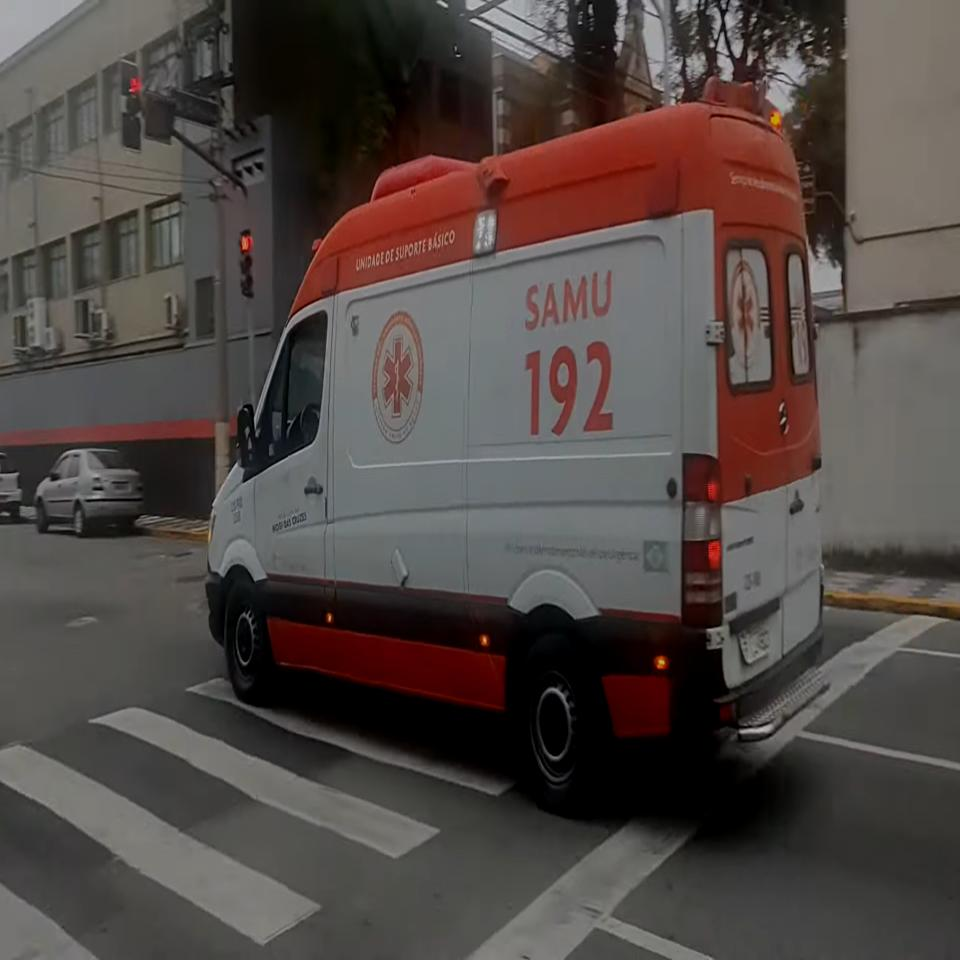ambulancia: (199, 83, 836, 817)
